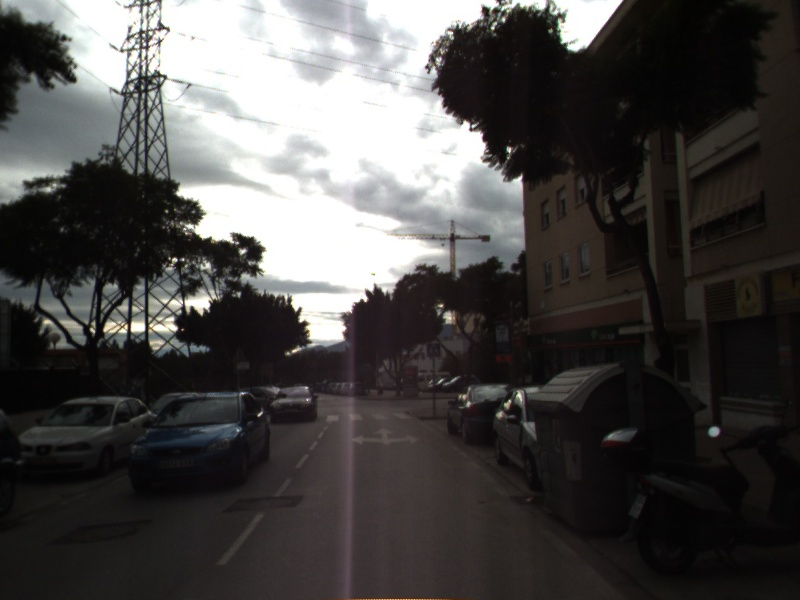STRAIGHT_LEFT_RIGHT: (350, 425, 422, 447)
